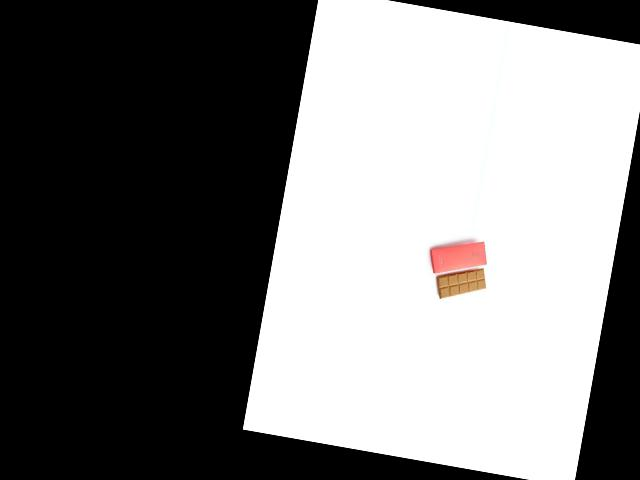chocolate: (430, 257, 490, 306)
